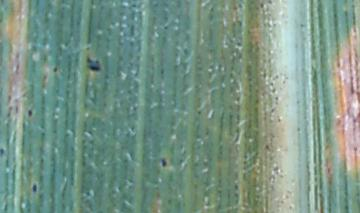tarspot: (83, 55, 104, 72), (30, 182, 38, 195), (50, 64, 60, 74), (25, 107, 34, 118), (159, 157, 168, 167), (1, 147, 7, 157), (258, 1, 264, 10), (265, 1, 272, 6)
